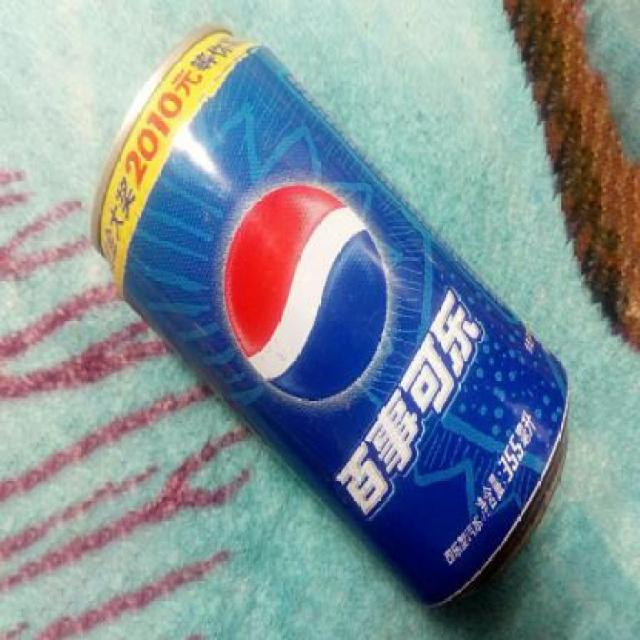Metal: (90, 17, 570, 608)
